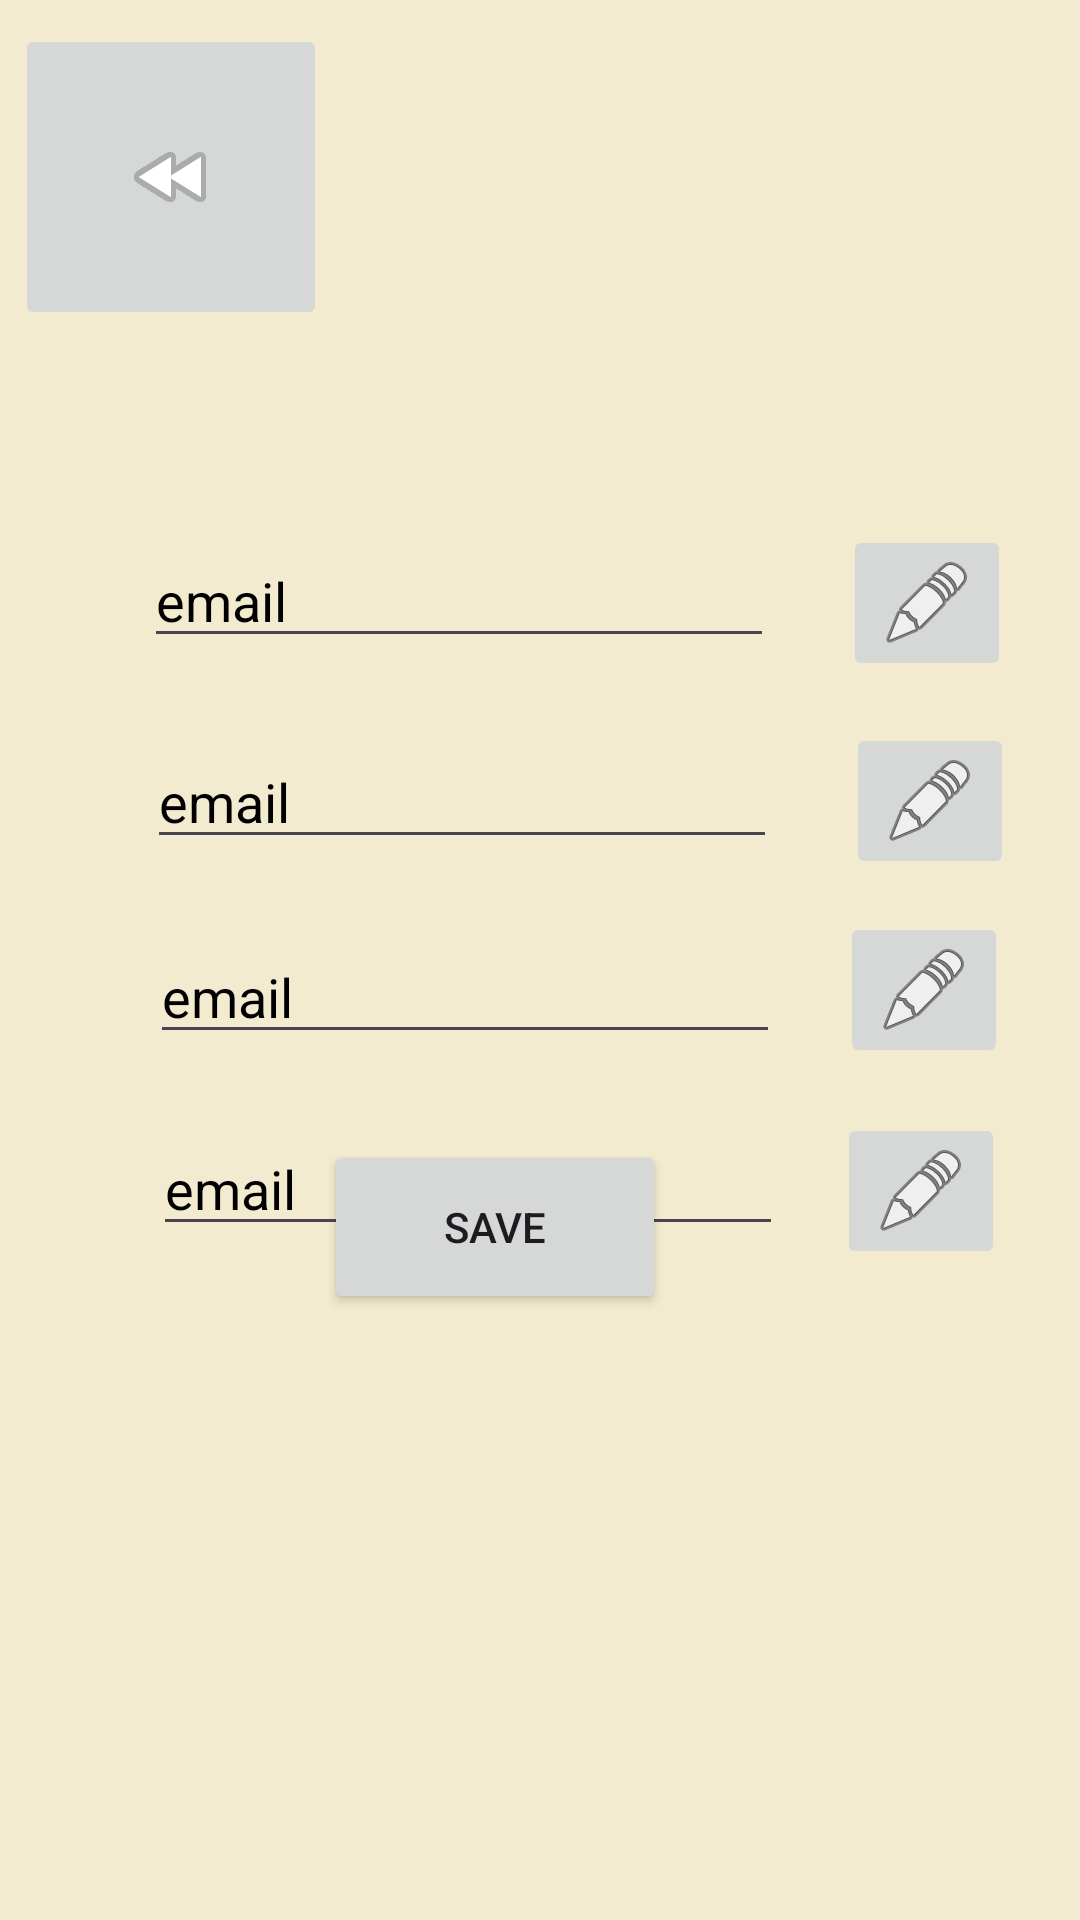

Screen size 1080*1920. Icon name, then its center in pixels as point (x, y):
edit: point (927, 603), point (930, 801), point (924, 990), point (921, 1191)
rew: point (171, 177)
